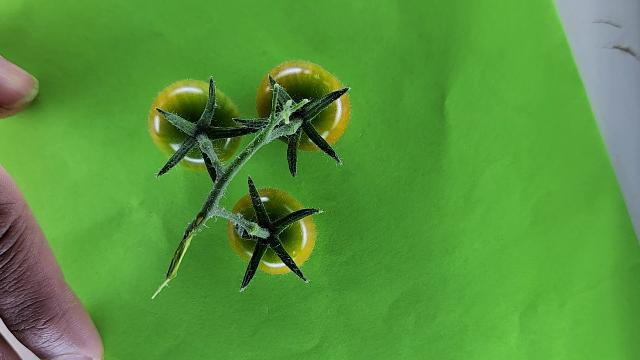Fully Grown: (257, 59, 350, 152), (149, 79, 244, 169), (228, 188, 316, 275)
